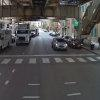Crosswalk: (4, 47, 99, 81)
